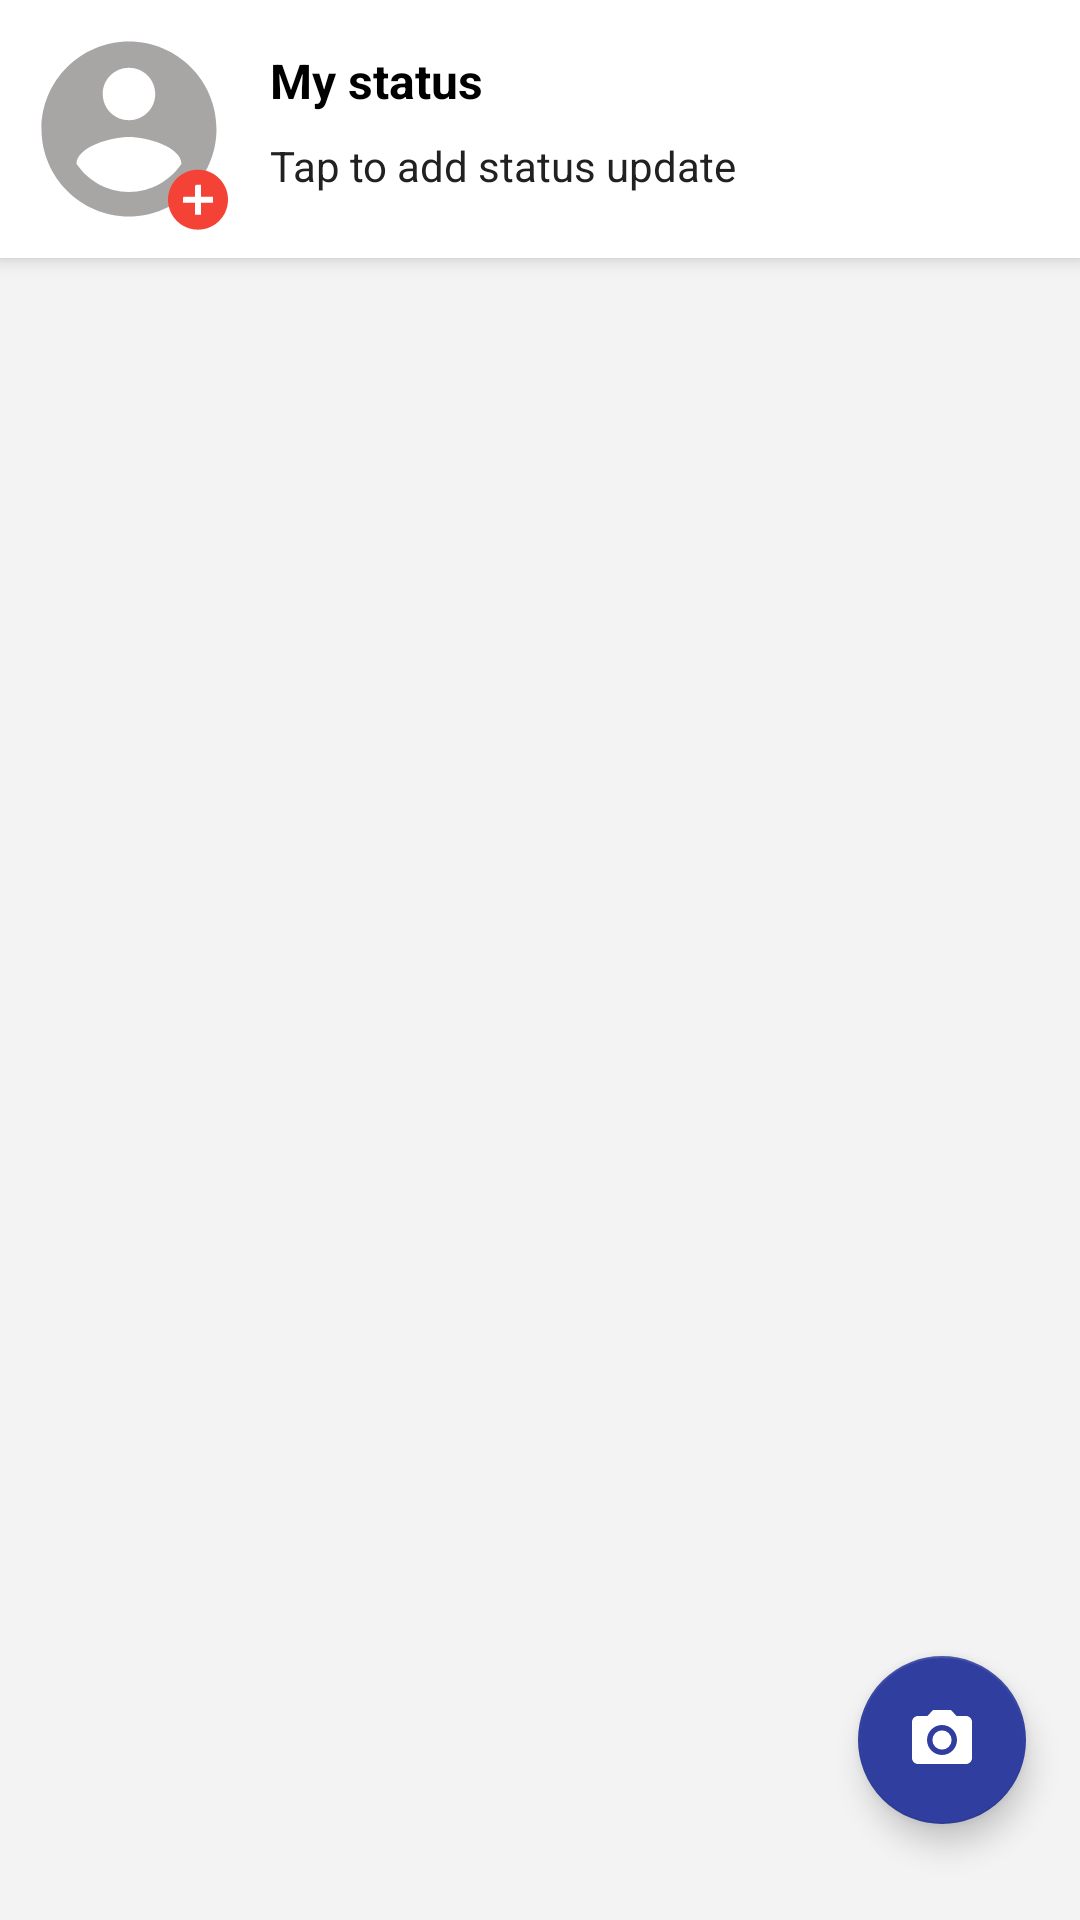

Named icons in this screenshot (1080x1920) and their centers, [x,y]:
floating button: [942,1740]
